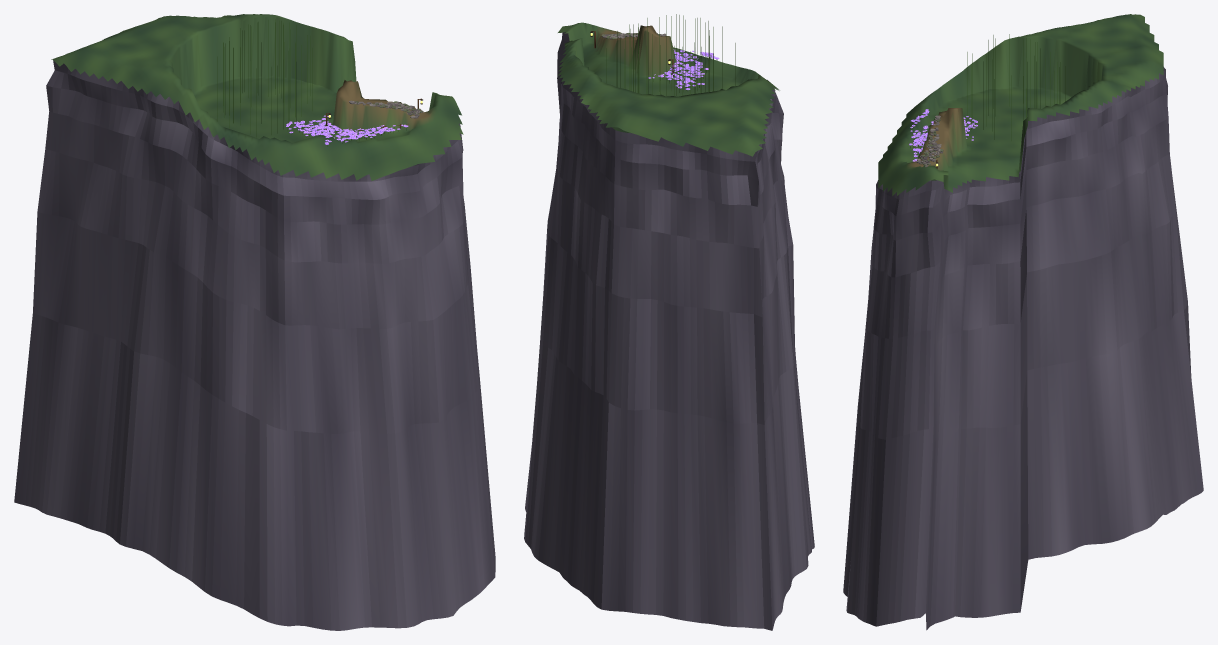
The model's file is terrace_props.glb.
3 views of the same model, side by side, from view 1: azimuth 30°, elevation 25°; view 2: azimuth 150°, elevation 25°; view 3: azimuth 270°, elevation 25° (orthographic). The views are drawn at different scales.
Visible parts, largest first — view 1: hero_terrace_rock, hero_terrace_ground, hero_terrace_leaf, terrace_flower_lavender; view 2: hero_terrace_rock, hero_terrace_ground, hero_terrace_leaf, terrace_flower_lavender; view 3: hero_terrace_rock, hero_terrace_ground, hero_terrace_leaf, terrace_flower_lavender, hero_terrace_flag.
Boxes of the visible parts, box(x1,y1,x2,y2) form: hero_terrace_rock: box(14, 60, 495, 630); hero_terrace_ground: box(51, 14, 463, 180); hero_terrace_leaf: box(217, 20, 406, 146); terrace_flower_lavender: box(286, 115, 408, 144); hero_terrace_rock: box(524, 32, 814, 630); hero_terrace_ground: box(558, 22, 779, 156); hero_terrace_leaf: box(606, 14, 735, 96); terrace_flower_lavender: box(648, 49, 719, 89); hero_terrace_rock: box(843, 67, 1203, 630); hero_terrace_ground: box(878, 14, 1163, 195); hero_terrace_leaf: box(910, 34, 1065, 158); terrace_flower_lavender: box(909, 109, 977, 161); hero_terrace_flag: box(916, 115, 943, 167).
Bounding box in the file's own units: 57.46 × 86 × 53.93.
